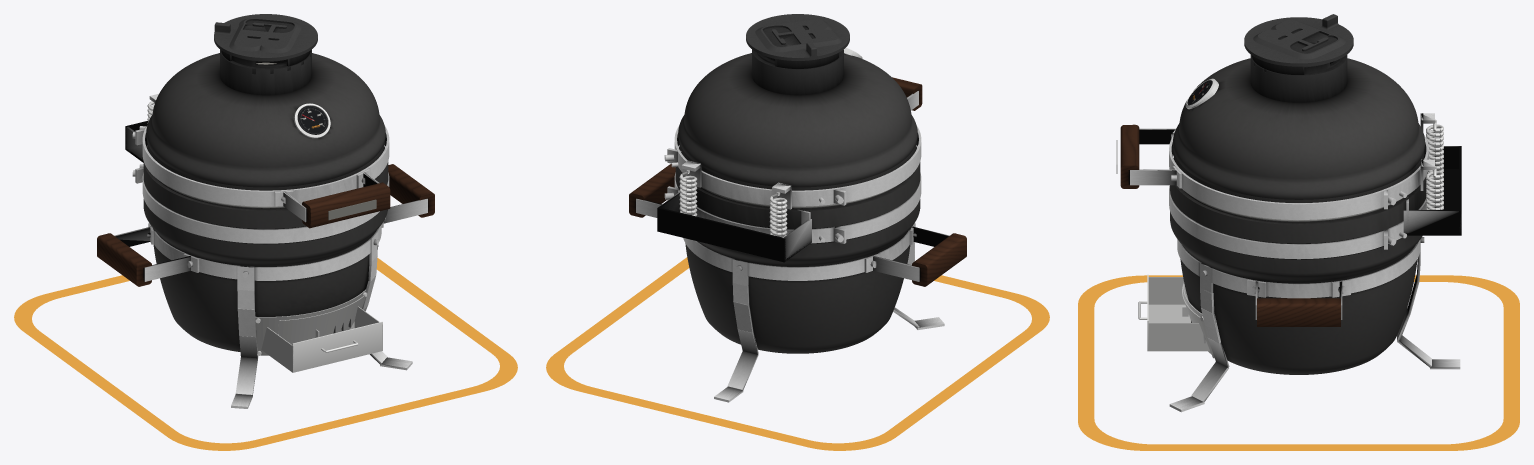
File: grill-bill-pro-3-medium-16-v27.glb
3 views of the same model, side by side, from view 1: azimuth 30°, elevation 25°; view 2: azimuth 150°, elevation 25°; view 3: azimuth 270°, elevation 25° (orthographic). The views are drawn at different scales.
Visible parts, largest first — view 1: base, lid; view 2: base, lid; view 3: base, lid.
Boxes of the visible parts, <box> form: base: <box>14,101,517,450</box>; lid: <box>132,14,390,228</box>; base: <box>546,147,1049,450</box>; lid: <box>664,14,922,209</box>; base: <box>1078,119,1519,450</box>; lid: <box>1116,14,1434,219</box>.
Size of the model in its own units: 0.6441 by 0.5715 by 0.6853.
20 materials, 7 textured.
